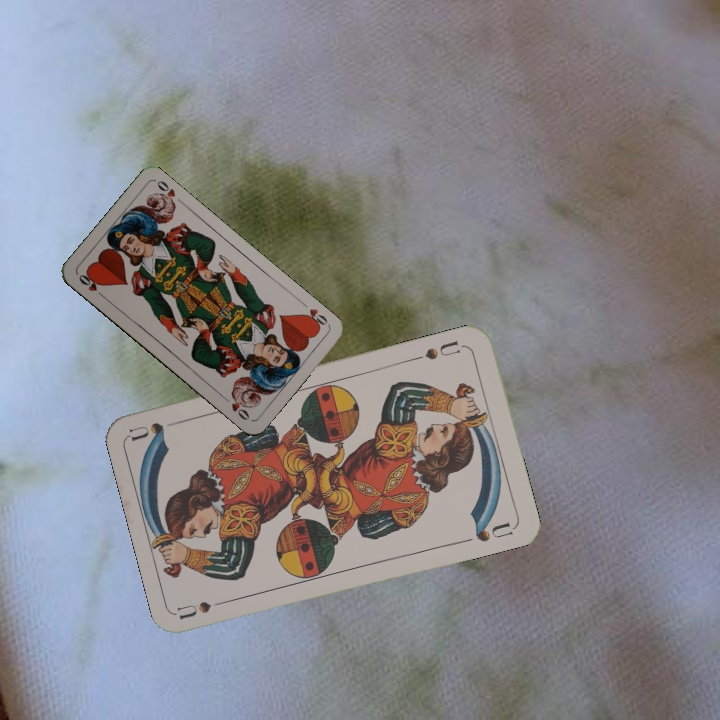HO: (297, 298, 331, 331), (74, 269, 108, 301)
SU: (175, 595, 234, 622), (409, 336, 467, 363)
